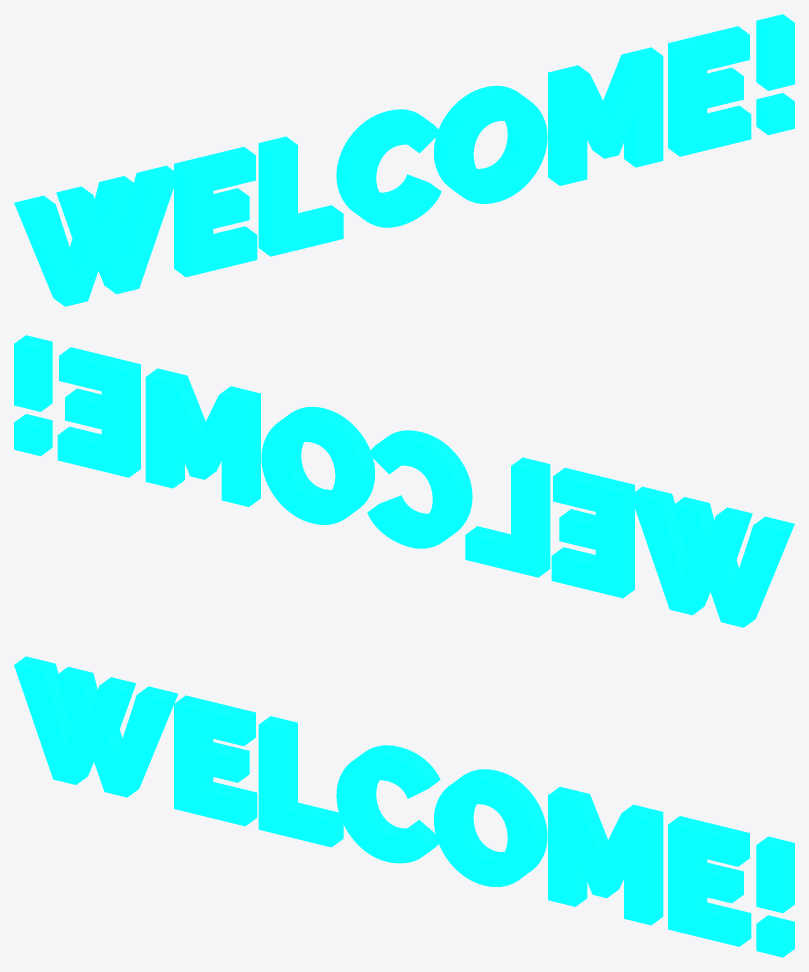
Rendered from welcome.fbx.
3 views of the same model, one above another, from view 1: azimuth 30°, elevation 25°; view 2: azimuth 150°, elevation 25°; view 3: azimuth 330°, elevation 25° (orthographic).
Visible parts, largest first — view 1: typeMesh1; view 2: typeMesh1; view 3: typeMesh1.
Boxes of the visible parts, left/top/right/bottom form: typeMesh1: left=14, top=14, right=794, bottom=306; typeMesh1: left=14, top=335, right=794, bottom=627; typeMesh1: left=14, top=656, right=794, bottom=957.
Size of the model in its own units: 93.13 by 12.36 by 2.5.
